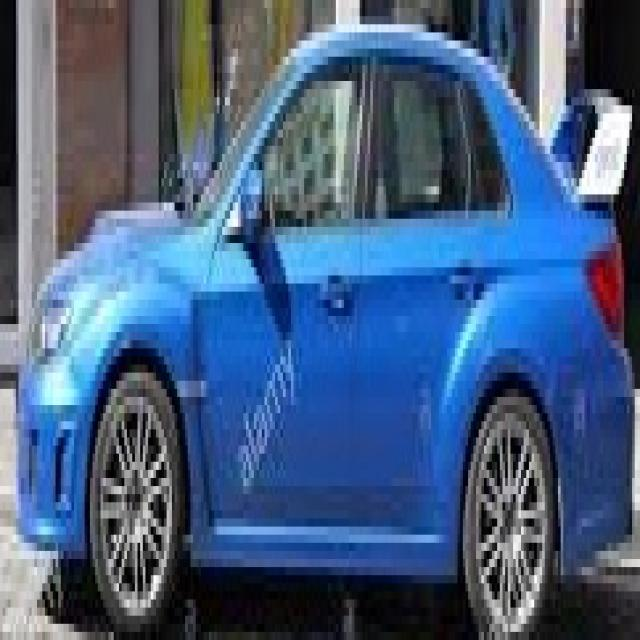blue: (17, 20, 634, 602)
